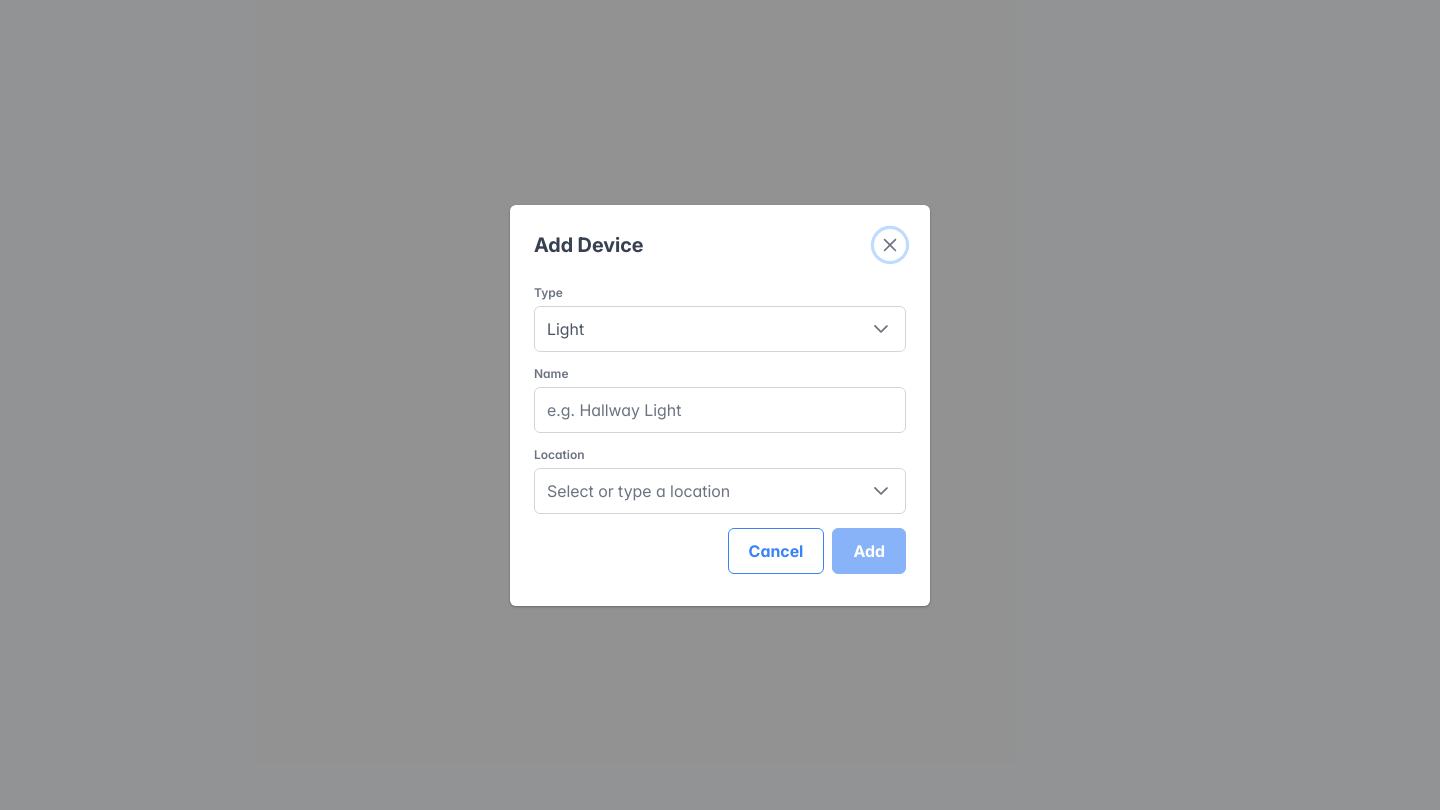
it: AddDeviceModal › displays server error when submit fails
Type "Test Light" into the field with placeholder "e.g. Hallway Light" at coordinates (720, 410), box [534,386,906,432]
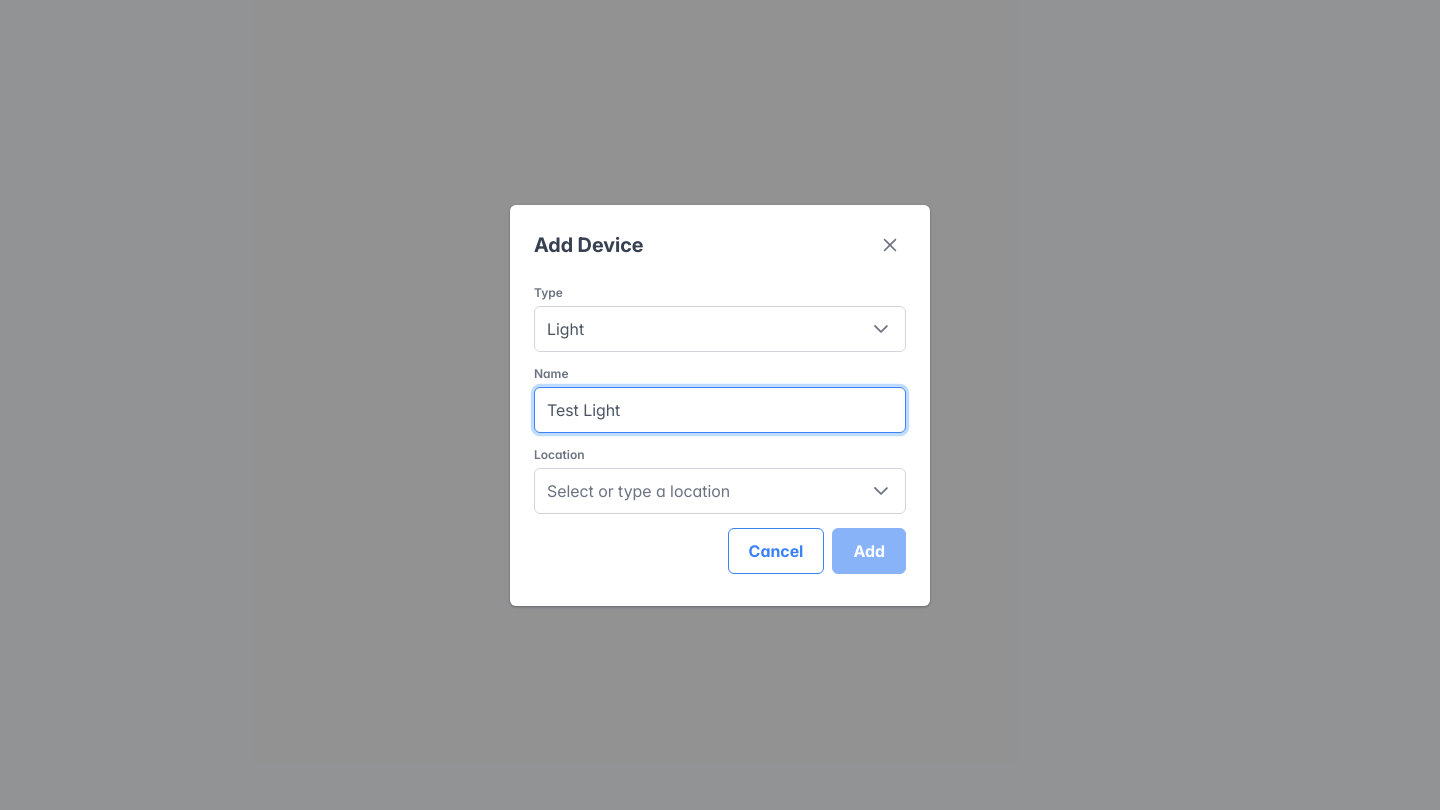
Type "Living Room" into the field with placeholder "Select or type a location" at coordinates (696, 490), box [535,468,857,512]
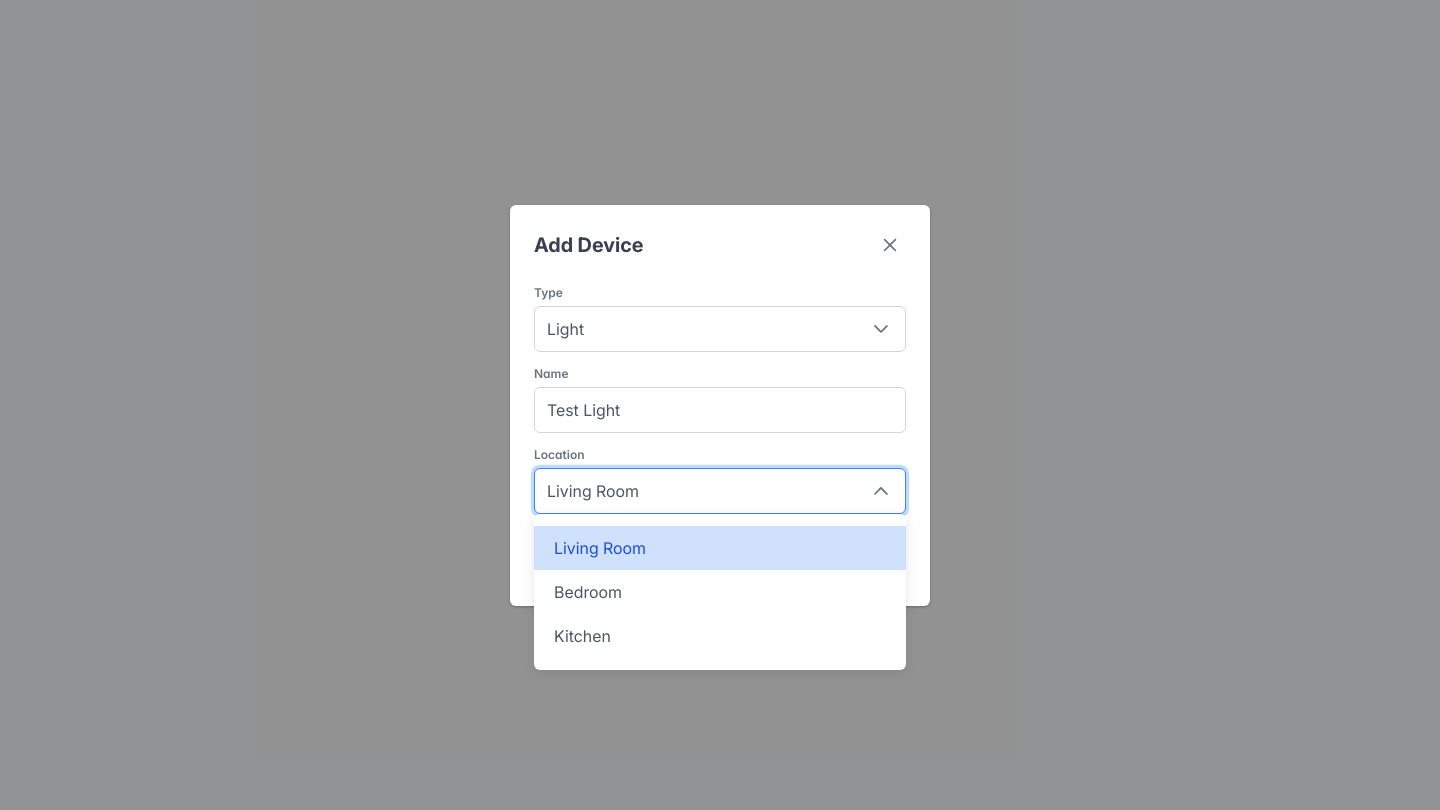
Press Enter
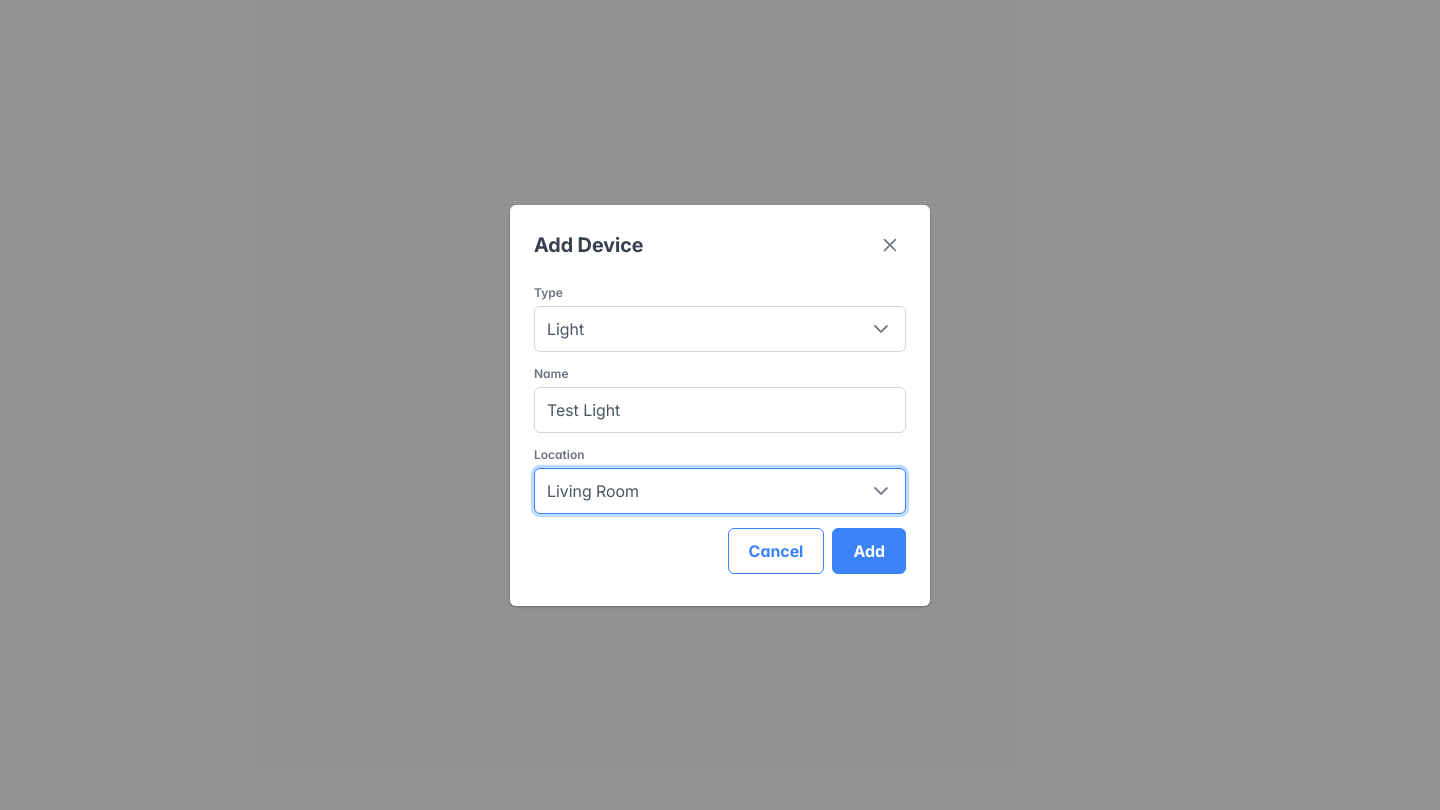
Click the button "Add" at coordinates (869, 550), box [832,528,906,574]
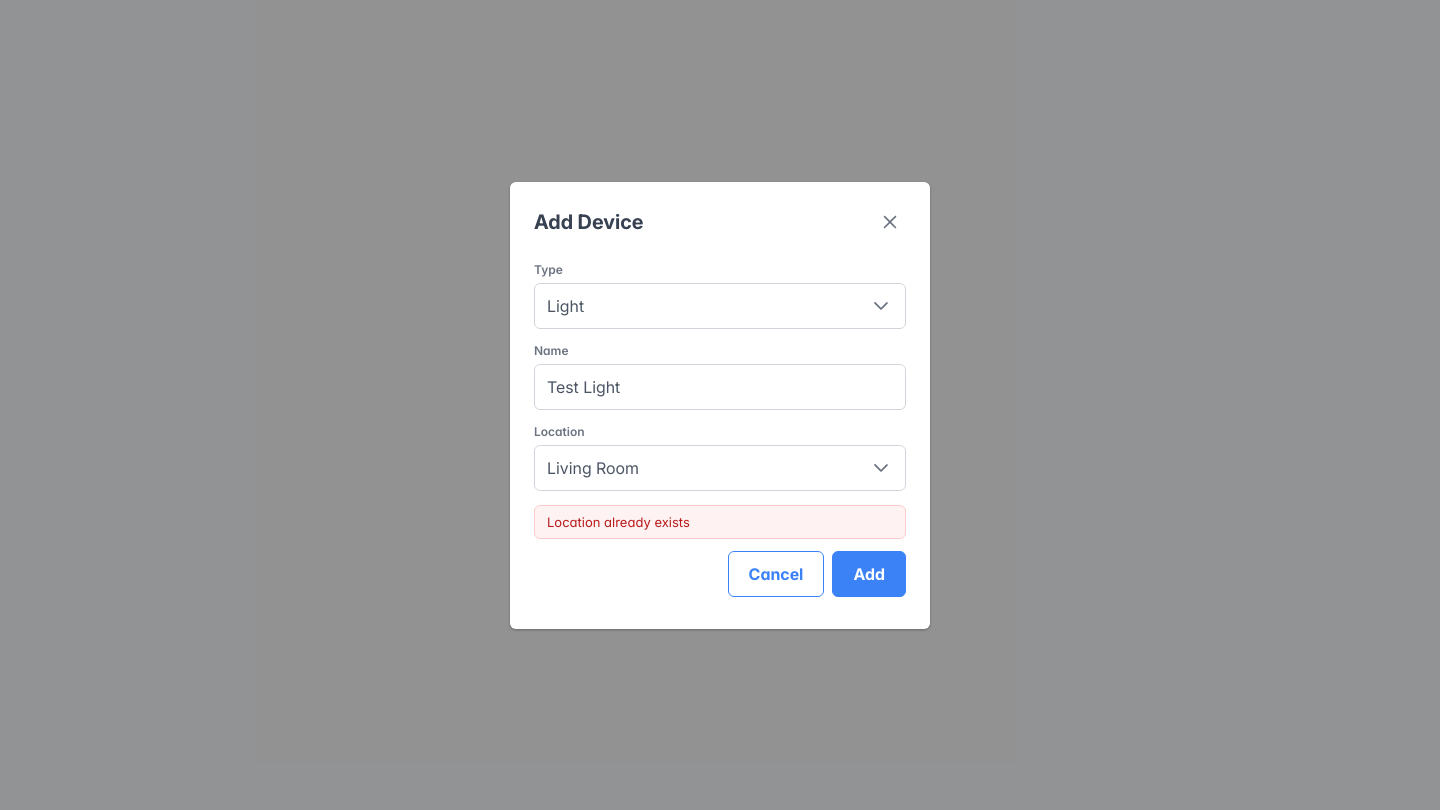
Result: the text "Location already exists" is shown at [534,504,906,538]
